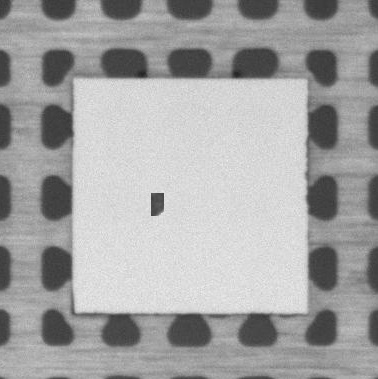DIE_INK: (151, 194, 164, 217)
